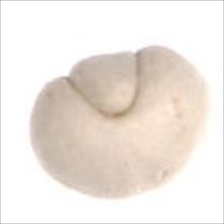L5: (59, 49, 145, 122), (125, 168, 178, 196)
L6: (26, 43, 214, 202)
